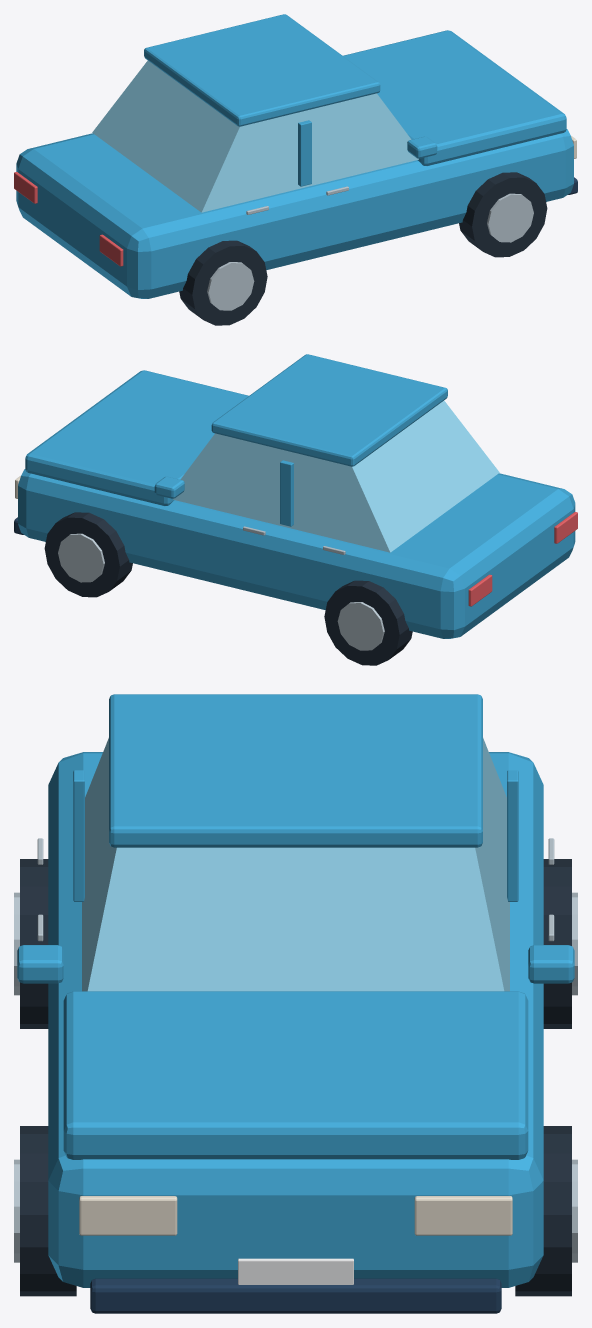
Rendered from town-car.glb.
3 views of the same model, one above another, from view 1: azimuth 30°, elevation 25°; view 2: azimuth 150°, elevation 25°; view 3: azimuth 270°, elevation 25° (orthographic). The views are drawn at different scales.
Visible parts, largest first — view 1: HX_blue.001, HX_glass.003, HX_rubber.001, HX_steel.004, HX_red.001; view 2: HX_blue.001, HX_glass.003, HX_rubber.001, HX_steel.004, HX_red.001; view 3: HX_blue.001, HX_glass.003, HX_rubber.001, HX_darkblue.001, HX_cream.003, HX_white.001, HX_steel.004.
Boxes of the visible parts, x1,y1,x2,y2 form: HX_blue.001: (16, 14, 573, 298); HX_glass.003: (92, 60, 418, 212); HX_rubber.001: (179, 172, 547, 325); HX_steel.004: (207, 186, 533, 310); HX_red.001: (14, 172, 123, 266); HX_blue.001: (18, 354, 575, 638); HX_glass.003: (173, 400, 499, 552); HX_rubber.001: (44, 512, 412, 665); HX_steel.004: (58, 526, 384, 650); HX_red.001: (468, 512, 577, 606); HX_blue.001: (17, 694, 574, 1287); HX_glass.003: (82, 738, 509, 991); HX_rubber.001: (20, 859, 571, 1296); HX_darkblue.001: (90, 1278, 501, 1313); HX_cream.003: (79, 1196, 512, 1235); HX_white.001: (238, 1258, 353, 1284); HX_steel.004: (14, 838, 577, 1262).
Bounding box in the file's own units: 4.02 × 1.54 × 2.19.
